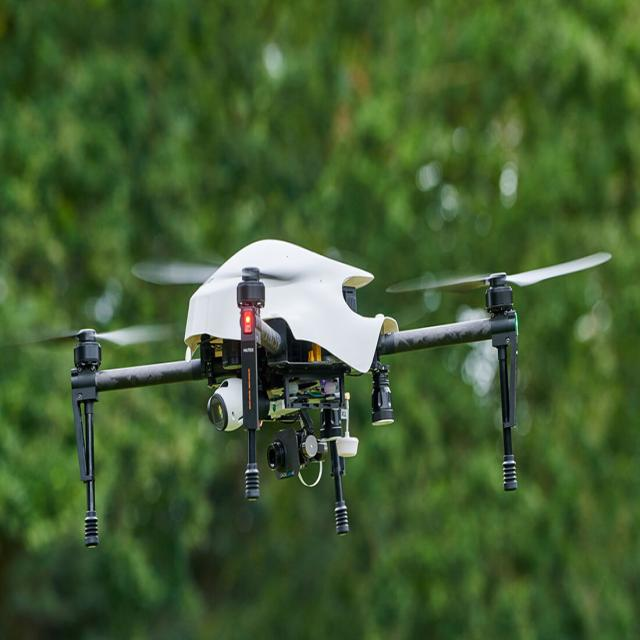drones: (8, 230, 614, 548)
